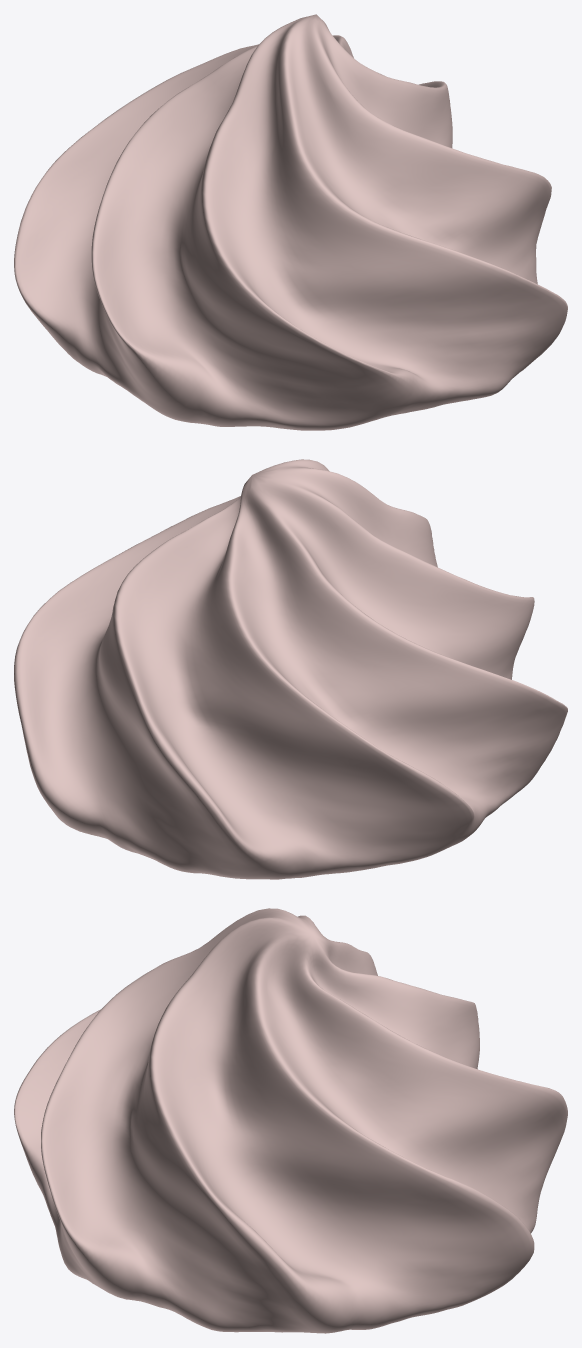
The model's file is cream-basic-draco.glb.
3 renders of one model, top to bottom at view 1: azimuth 30°, elevation 25°; view 2: azimuth 150°, elevation 25°; view 3: azimuth 270°, elevation 25°, orthographic.
Parts seen in each view (by area): view 1: cream; view 2: cream; view 3: cream.
Part boxes in pixels (<box>): cream: <box>14,14,567,430</box>; cream: <box>14,459,567,879</box>; cream: <box>14,908,567,1333</box>.
Bounding box in the file's own units: 11.22 × 7.29 × 11.24.
